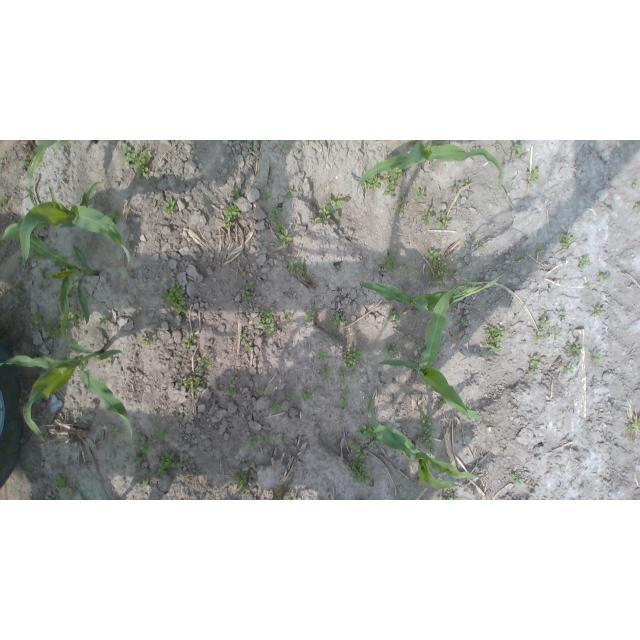Maize: (0, 318, 132, 454), (380, 283, 497, 429), (0, 181, 130, 276), (367, 395, 490, 489), (28, 232, 99, 344), (357, 141, 504, 194), (25, 140, 99, 206), (360, 281, 496, 315), (76, 480, 92, 500)
Weeds: (121, 143, 153, 180), (310, 195, 346, 225), (160, 283, 186, 316), (384, 166, 405, 198), (417, 416, 436, 450), (483, 325, 503, 354), (272, 221, 293, 248), (344, 348, 363, 376), (347, 437, 369, 461), (349, 460, 371, 484), (157, 452, 179, 476), (41, 322, 64, 344), (52, 476, 73, 500), (222, 202, 241, 228), (363, 172, 382, 192), (434, 258, 450, 280), (527, 355, 542, 377), (381, 254, 399, 272), (257, 308, 276, 325), (162, 196, 178, 216), (355, 425, 376, 440), (235, 471, 249, 493), (565, 340, 583, 357), (511, 143, 528, 160), (383, 340, 401, 356), (241, 283, 256, 302), (436, 211, 451, 229), (67, 312, 85, 327), (288, 260, 304, 276), (339, 388, 351, 409), (425, 248, 440, 264), (198, 356, 212, 373), (527, 169, 540, 187), (560, 233, 574, 249), (184, 334, 197, 351), (106, 209, 120, 224), (336, 372, 352, 385), (192, 376, 204, 393), (333, 313, 347, 327), (441, 490, 459, 500), (628, 419, 640, 434), (138, 441, 153, 453), (138, 337, 153, 349), (396, 197, 406, 214), (130, 454, 147, 464), (178, 377, 191, 390), (300, 389, 313, 402), (511, 472, 524, 485), (428, 280, 449, 288), (319, 365, 331, 379), (540, 316, 551, 331), (389, 311, 404, 322), (13, 283, 24, 298), (424, 210, 433, 227), (32, 250, 47, 260), (579, 256, 591, 268), (264, 325, 277, 336), (285, 188, 296, 201), (271, 208, 282, 221), (258, 436, 273, 445), (452, 181, 471, 188), (30, 313, 42, 324), (305, 311, 316, 323), (592, 353, 603, 365), (157, 431, 169, 442), (279, 140, 289, 153), (272, 398, 281, 412), (318, 350, 329, 361), (231, 187, 241, 199), (244, 342, 254, 353), (99, 315, 110, 325), (370, 440, 382, 449), (111, 429, 123, 438), (599, 271, 609, 281), (593, 308, 604, 317), (416, 189, 425, 200), (248, 437, 256, 449), (551, 330, 561, 339), (228, 376, 239, 384), (1, 195, 8, 207), (225, 388, 235, 396), (256, 386, 264, 396), (411, 272, 421, 280), (262, 193, 272, 201), (249, 140, 255, 153), (286, 494, 299, 500), (453, 288, 464, 295), (536, 332, 544, 341), (246, 461, 256, 468), (564, 367, 573, 374), (460, 318, 467, 327), (240, 332, 247, 341), (559, 310, 565, 320), (400, 263, 408, 270), (464, 403, 472, 410), (634, 204, 640, 213), (437, 399, 443, 408), (633, 180, 639, 189), (435, 141, 445, 146), (538, 245, 545, 252), (335, 265, 342, 272), (23, 160, 29, 168), (20, 259, 26, 267), (44, 277, 50, 284), (285, 394, 291, 400), (572, 362, 578, 367), (516, 256, 522, 261), (409, 140, 416, 144), (471, 147, 478, 151), (257, 140, 264, 144), (480, 244, 485, 249), (340, 414, 345, 419), (143, 480, 149, 484), (210, 495, 214, 500), (279, 441, 285, 444)
